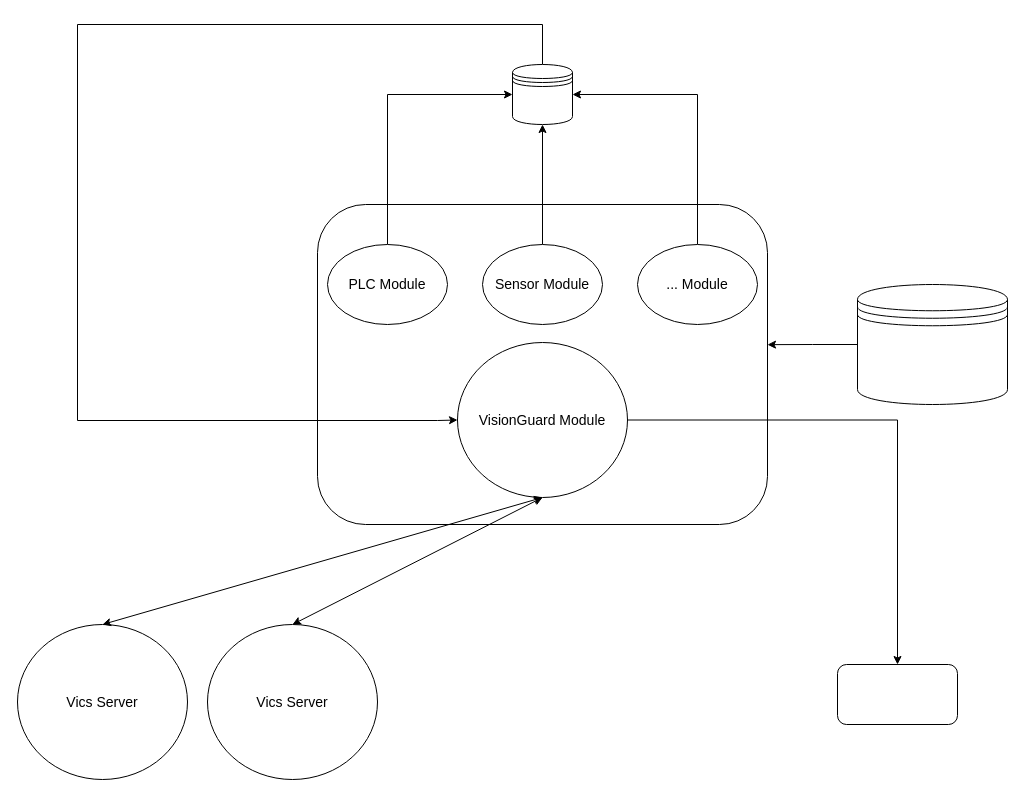
This 1025x797 diagram has some shape labels left out. The shapes that lost their labels are listed below. From the top down, each one's centre as x and y in pixels, then its label:
(542,94): Queue
(932,344): PLC, Sensor , VICS Send Log...
(897,694): FTP Server
